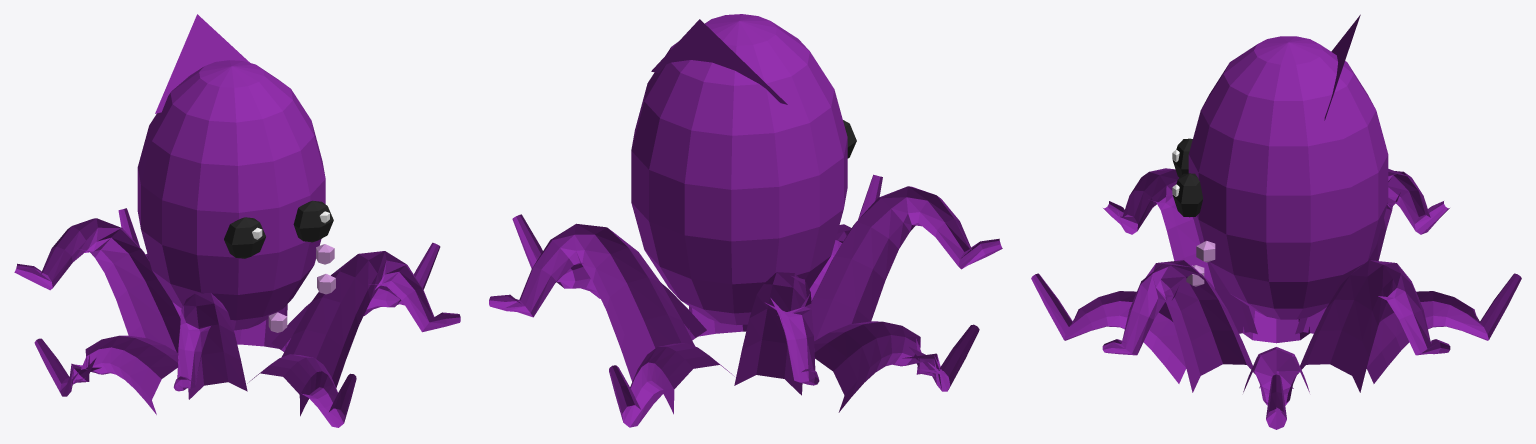
Rendered from kraken.glb.
3 renders of one model, left to right at view 1: azimuth 30°, elevation 25°; view 2: azimuth 150°, elevation 25°; view 3: azimuth 270°, elevation 25°, orthographic. The views are drawn at different scales.
Visible parts, largest first — view 1: kraken; view 2: kraken; view 3: kraken.
Part boxes in pixels (bbox=[...]): kraken: bbox=[14, 14, 460, 427]; kraken: bbox=[489, 14, 1002, 427]; kraken: bbox=[1031, 14, 1521, 429].
Bounding box in the file's own units: 2.03 × 1.69 × 2.03.
